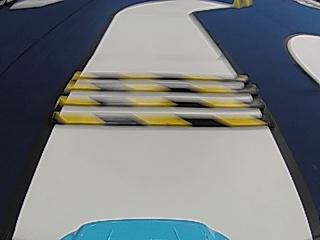bump: (49, 68, 274, 133)
